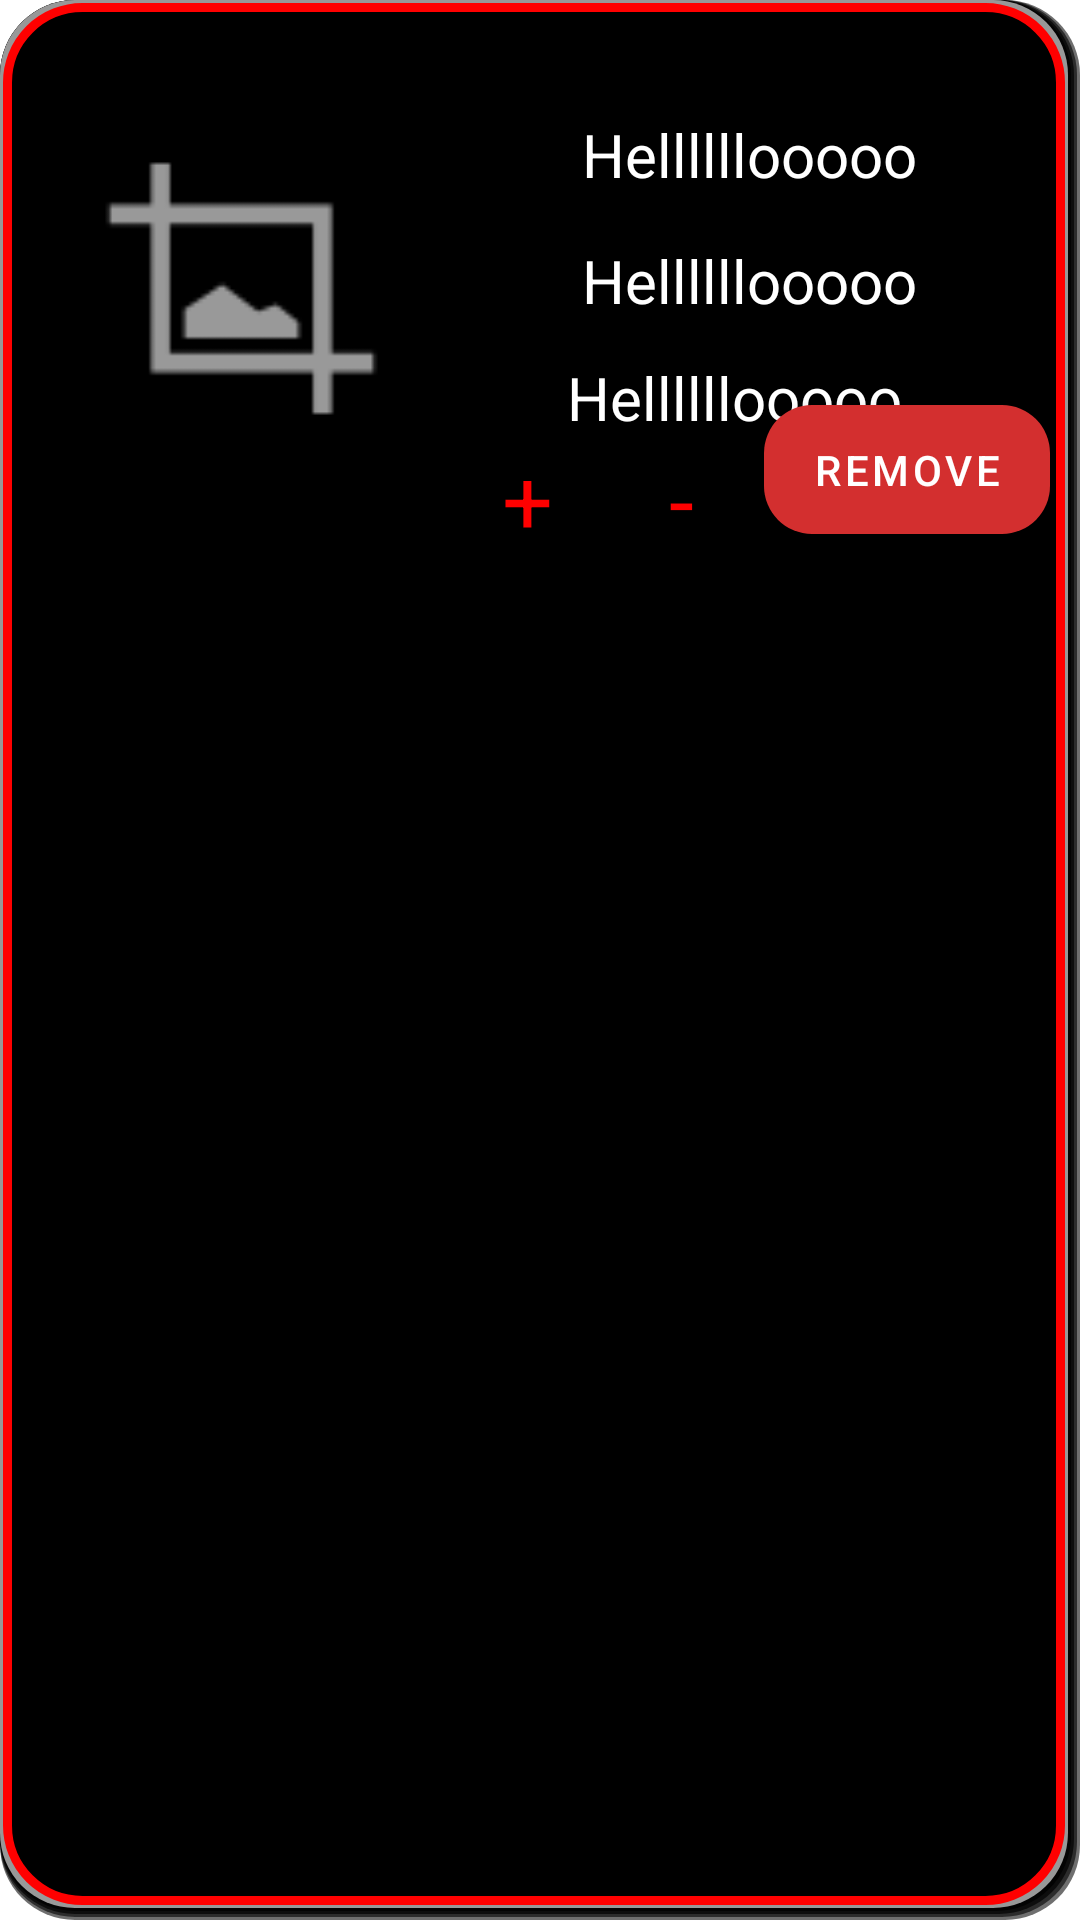

Point at icon controls on the screen. Image size 1080*1920, points as (x=x, y=y).
crop: (x=241, y=288)
